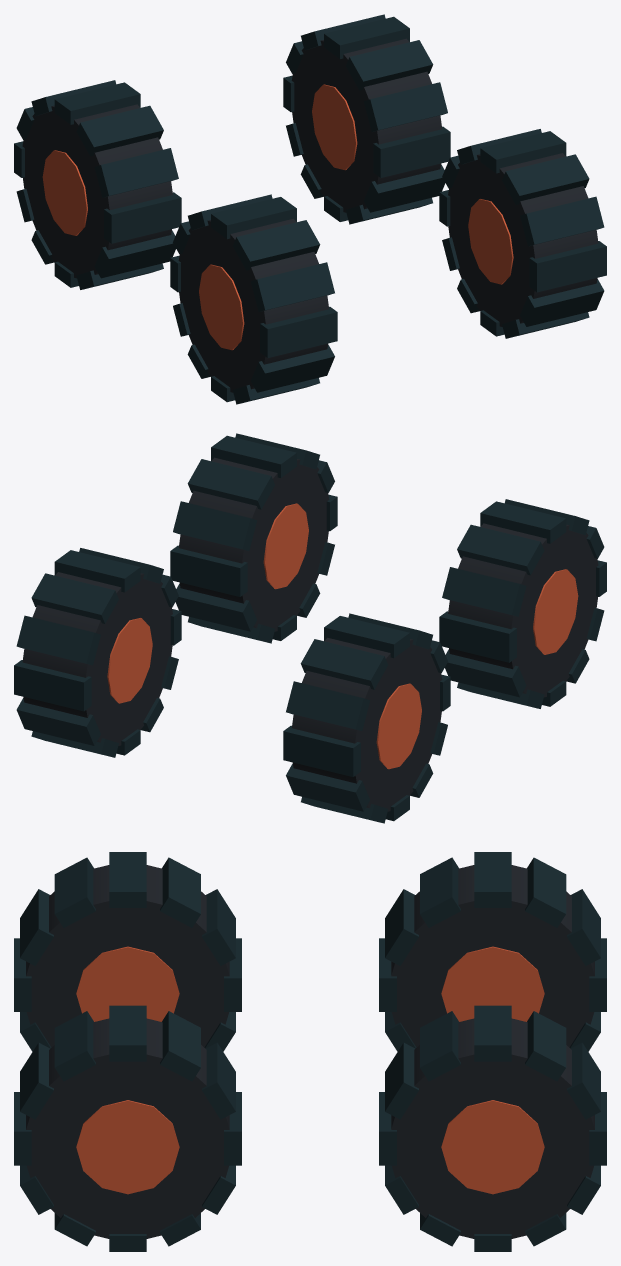
Rendered from upgrade-monster_treads.glb.
The picture shows the model from 3 angles, top to bottom: view 1: azimuth 30°, elevation 25°; view 2: azimuth 150°, elevation 25°; view 3: azimuth 270°, elevation 25°; orthographic projection. The views are drawn at different scales.
Parts seen in each view (by area): view 1: upgrade-monster_treads; view 2: upgrade-monster_treads; view 3: upgrade-monster_treads.
Boxes of the visible parts, <box> form: upgrade-monster_treads: <box>14,14,606,404</box>; upgrade-monster_treads: <box>14,433,606,823</box>; upgrade-monster_treads: <box>14,852,606,1251</box>.
Bounding box in the file's own units: 2.57 × 1.28 × 3.33.
